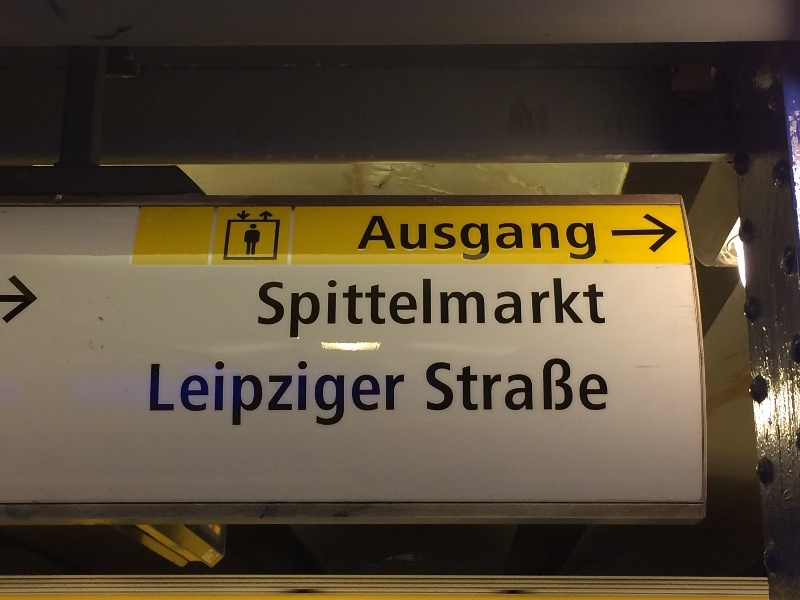text: (161, 359, 176, 432), (177, 359, 192, 432), (193, 359, 208, 432), (209, 359, 224, 432), (225, 359, 240, 432), (241, 359, 256, 432), (257, 359, 272, 432), (273, 359, 288, 432), (289, 359, 304, 432), (305, 359, 320, 432), (321, 359, 336, 432), (337, 359, 352, 432), (353, 359, 368, 432), (369, 359, 384, 432), (385, 359, 400, 432), (273, 275, 288, 341), (289, 275, 304, 341), (305, 275, 320, 341), (321, 275, 336, 341), (337, 275, 352, 341), (353, 275, 368, 341), (369, 275, 384, 341), (385, 275, 400, 341), (401, 275, 416, 341), (417, 275, 432, 341), (433, 275, 448, 341), (449, 275, 464, 341), (465, 275, 480, 341), (481, 275, 496, 341), (497, 275, 512, 341), (513, 275, 528, 341), (529, 275, 544, 341), (545, 275, 560, 341), (561, 275, 576, 341), (577, 275, 592, 341), (258, 275, 272, 341), (593, 275, 607, 341), (593, 356, 609, 413), (433, 356, 448, 413), (449, 356, 464, 413), (465, 356, 480, 413), (481, 356, 496, 413), (497, 356, 512, 413), (513, 356, 528, 413), (529, 356, 544, 413), (545, 356, 560, 413), (561, 356, 576, 413), (577, 356, 592, 413), (385, 213, 400, 264), (401, 213, 416, 264), (417, 213, 432, 264), (433, 213, 448, 264), (449, 213, 464, 264), (465, 213, 480, 264), (481, 213, 496, 264), (497, 213, 512, 264), (513, 213, 528, 264), (529, 213, 544, 264), (545, 213, 560, 264), (561, 213, 576, 264), (577, 213, 592, 264), (151, 359, 160, 432), (373, 213, 384, 264), (425, 356, 432, 413), (593, 213, 599, 264), (401, 359, 405, 432)
